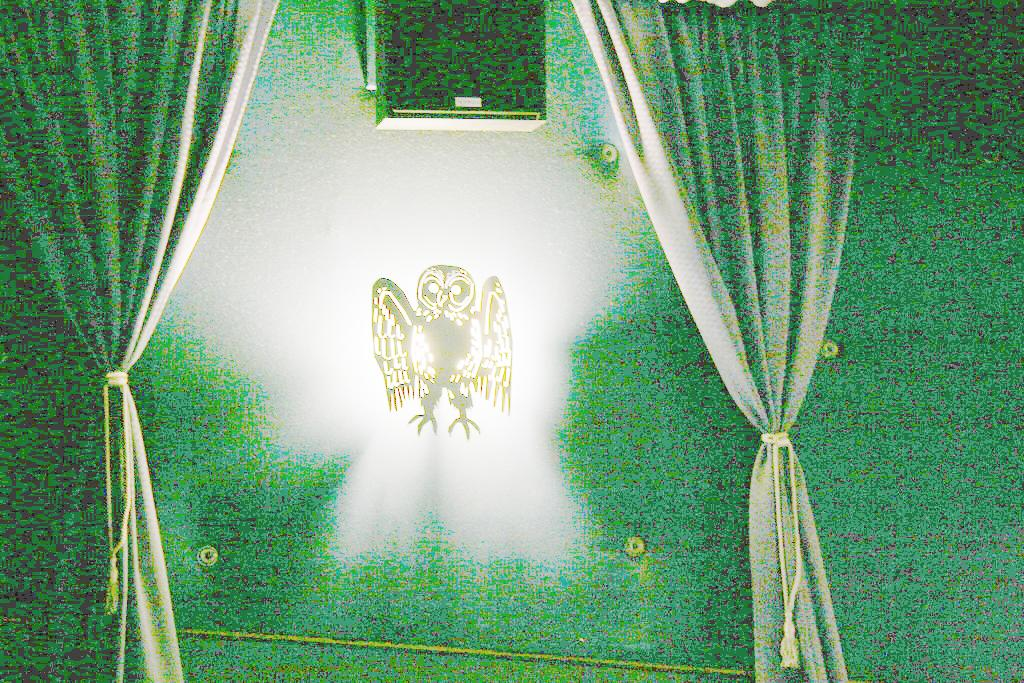Owl: (370, 266, 516, 446)
